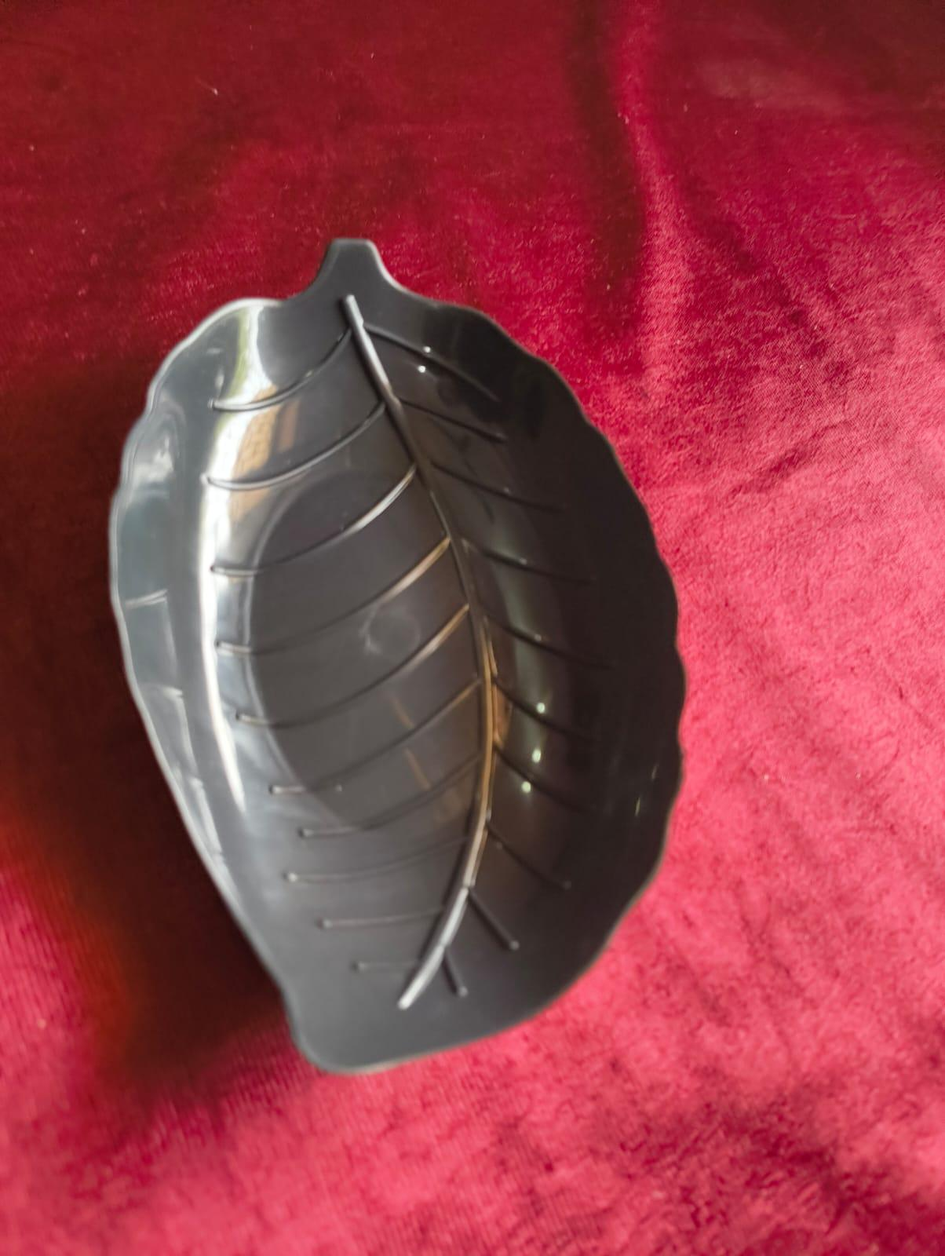plate: (101, 239, 693, 1072)
